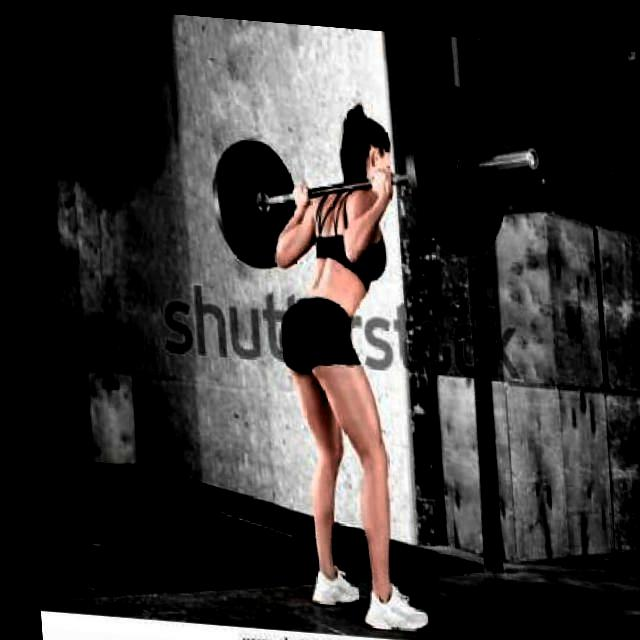barbell: (400, 75, 545, 256)
